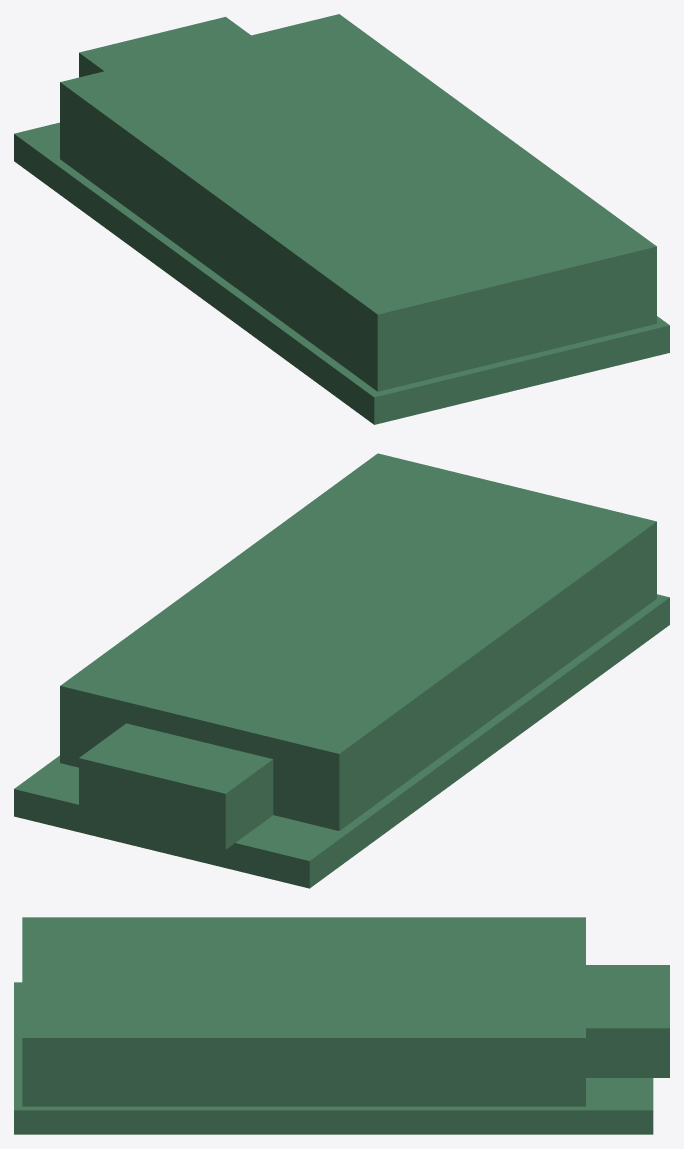
File: USB-C_2S_Charger_v3_4.glb
The picture shows the model from 3 angles, top to bottom: view 1: azimuth 30°, elevation 25°; view 2: azimuth 150°, elevation 25°; view 3: azimuth 270°, elevation 25°; orthographic projection. The views are drawn at different scales.
Parts seen in each view (by area): view 1: USB-C_2S_Charger_v3_4; view 2: USB-C_2S_Charger_v3_4; view 3: USB-C_2S_Charger_v3_4.
Part boxes in pixels (<box>): USB-C_2S_Charger_v3_4: <box>14,14,669,424</box>; USB-C_2S_Charger_v3_4: <box>14,453,669,888</box>; USB-C_2S_Charger_v3_4: <box>14,917,669,1134</box>.
Size of the model in its own units: 18 by 6.1 by 39.
